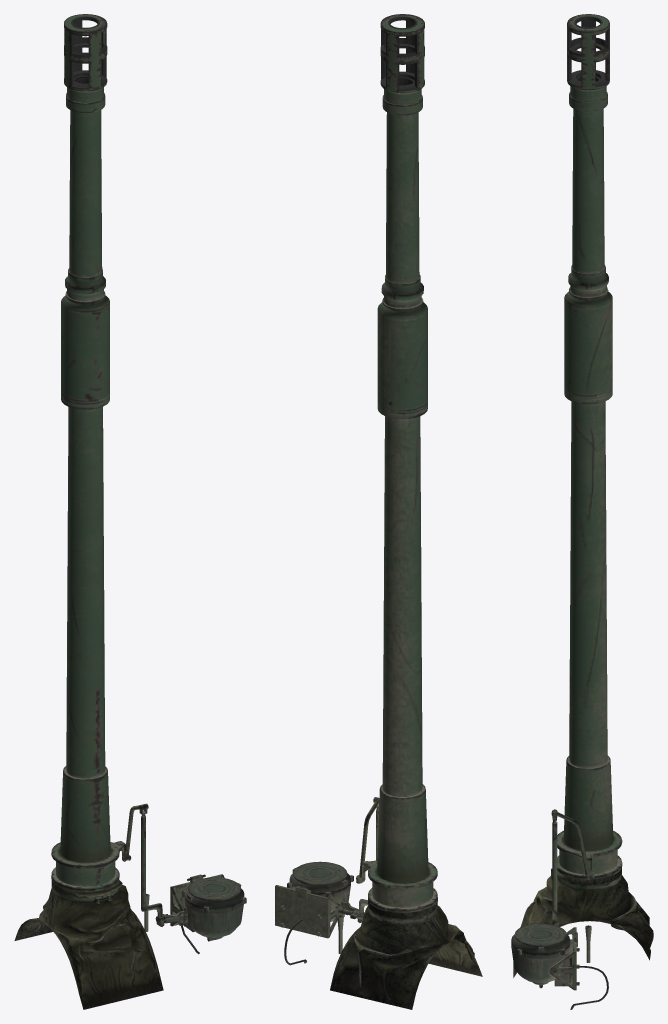
File: Gun_02.glb
3 views of the same model, side by side, from view 1: azimuth 30°, elevation 25°; view 2: azimuth 150°, elevation 25°; view 3: azimuth 270°, elevation 25° (orthographic). The views are drawn at different scales.
Parts seen in each view (by area): view 1: set_0_group_0; view 2: set_0_group_0; view 3: set_0_group_0.
Part boxes in pixels (bbox=[...]): set_0_group_0: bbox=[14, 14, 246, 1009]; set_0_group_0: bbox=[275, 14, 482, 1009]; set_0_group_0: bbox=[511, 14, 653, 1009].
Bounding box in the file's own units: 1.15 × 6.13 × 0.8437.
1 material, 1 textured.
